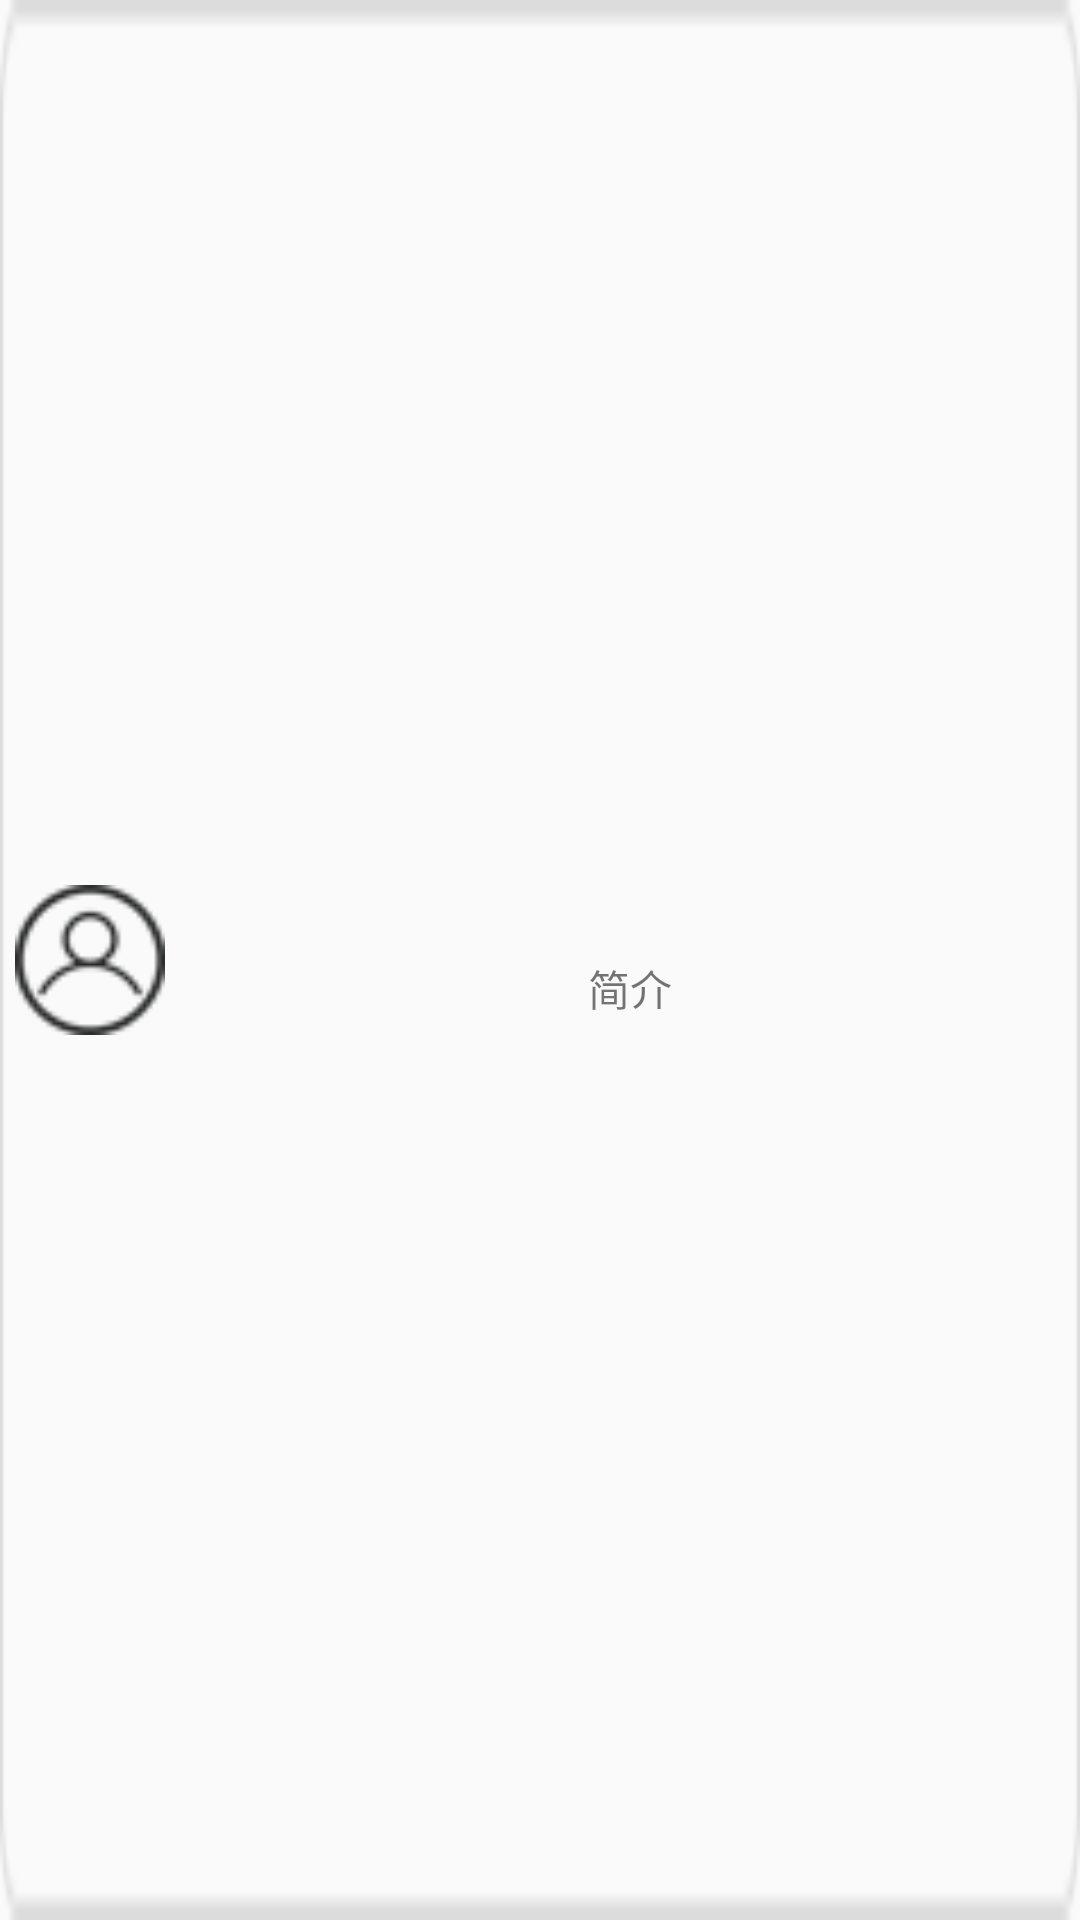

Where icons sit on this 1080 x 1920 app screen, as region(x1, y1, x2, y2):
bottom user false: region(15, 885, 165, 1035)
